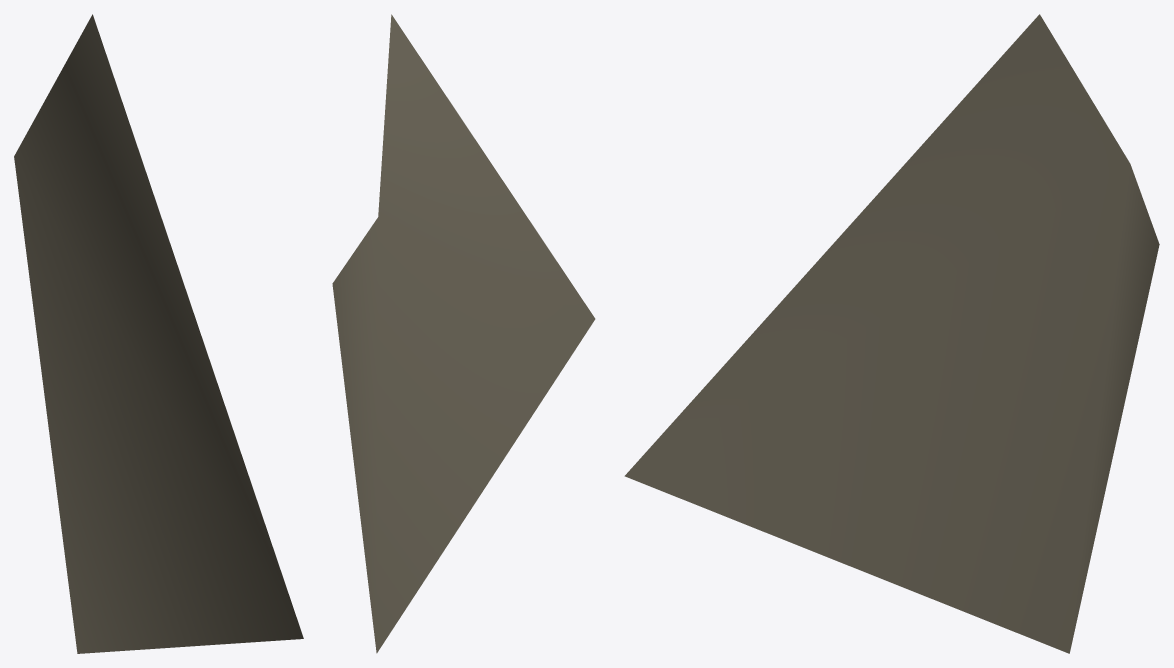
3 views of the same model, side by side, from view 1: azimuth 30°, elevation 25°; view 2: azimuth 150°, elevation 25°; view 3: azimuth 270°, elevation 25° (orthographic). The views are drawn at different scales.
Bounding box in the file's own units: 0.000345 × 0.00661 × 0.00501.
Materials: 1 (1 with a texture image).
